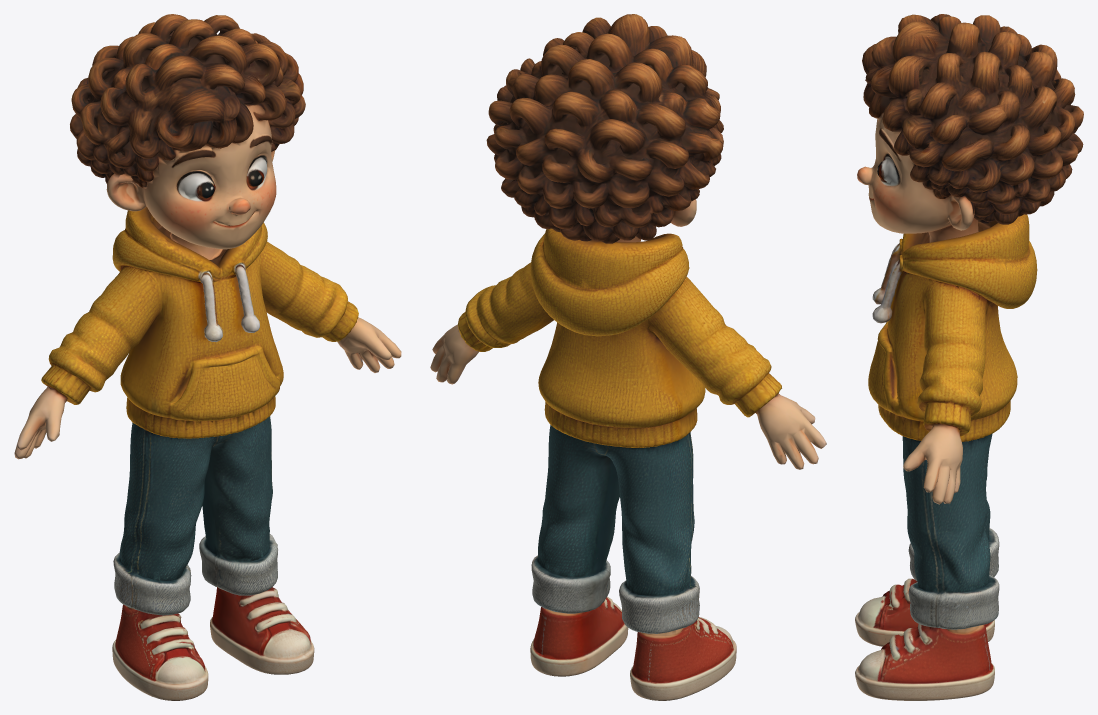
The model's file is sari-facing-z.glb.
3 views of the same model, side by side, from view 1: azimuth 30°, elevation 25°; view 2: azimuth 150°, elevation 25°; view 3: azimuth 270°, elevation 25° (orthographic). The views are drawn at different scales.
Visible parts, largest first — view 1: tripo_node_227f9139-74aa-4492-89ed-885f222df6d5; view 2: tripo_node_227f9139-74aa-4492-89ed-885f222df6d5; view 3: tripo_node_227f9139-74aa-4492-89ed-885f222df6d5.
Boxes of the visible parts, x1,y1,x2,y2 form: tripo_node_227f9139-74aa-4492-89ed-885f222df6d5: (14,14,401,700); tripo_node_227f9139-74aa-4492-89ed-885f222df6d5: (430,14,826,700); tripo_node_227f9139-74aa-4492-89ed-885f222df6d5: (855,14,1083,700).
Bounding box in the file's own units: 0.6275 × 0.9806 × 0.3187.
1 material, 1 textured.
